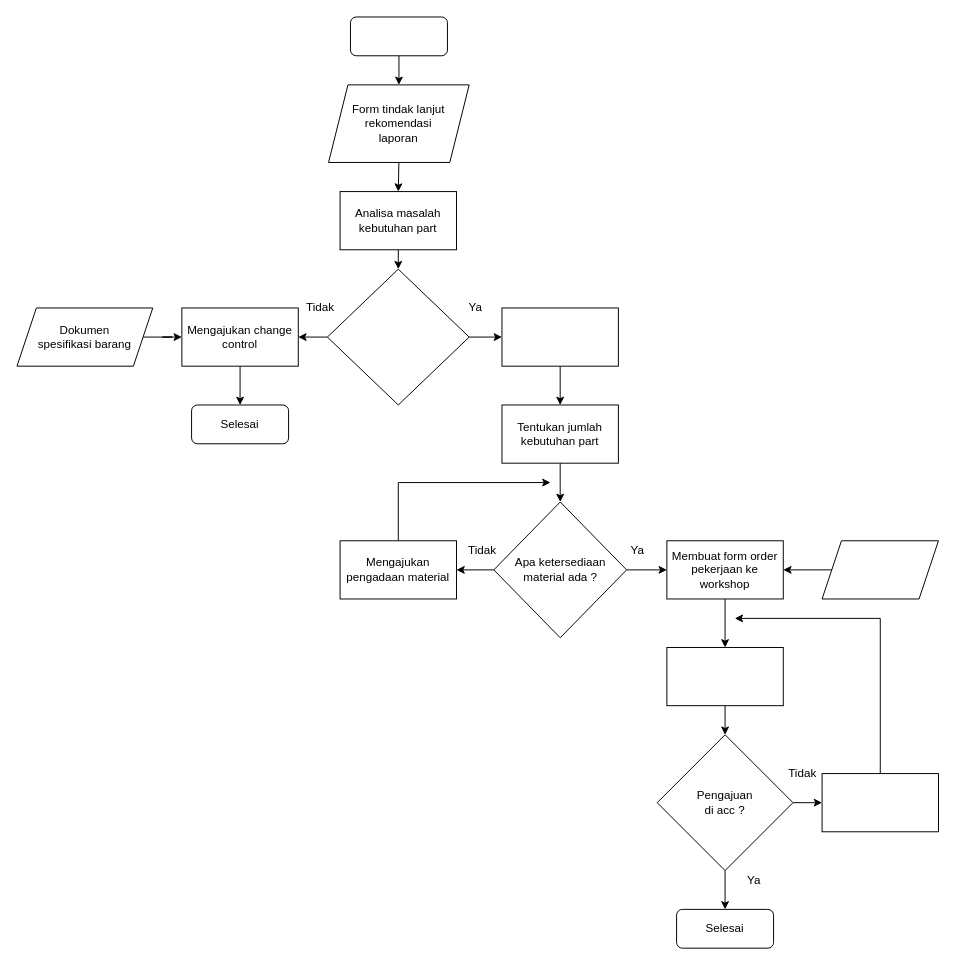
Some shapes in this 955 by 965 pixel diagram are drawn without their labels. Here are the shapes that lost their labels. From the top down, the centre of each, then its label:
At pixel 398 36: "Mulai".
At pixel 397 336: "Apa part tidak ada di pasaran?".
At pixel 559 336: "Membuat gambar desain part baru".
At pixel 879 569: "Dokumen drawing".
At pixel 724 676: "Pengajuan acc ke atasan".
At pixel 879 802: "Revisi dokumen drawing".
